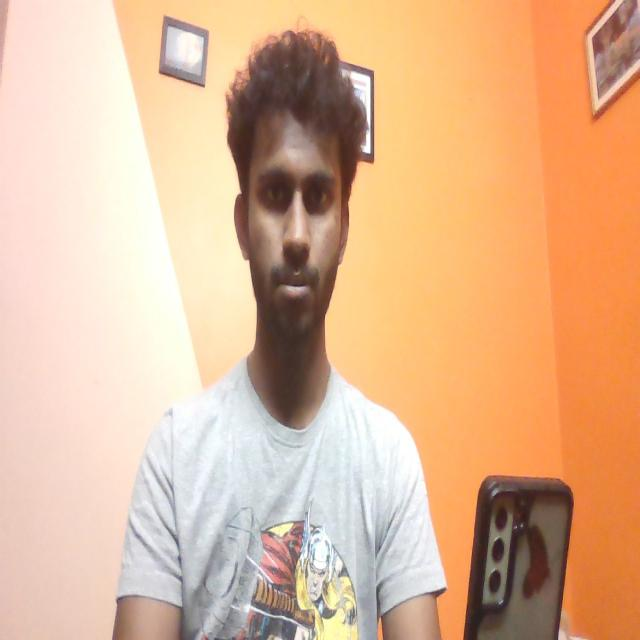phone: (463, 475, 575, 640)
